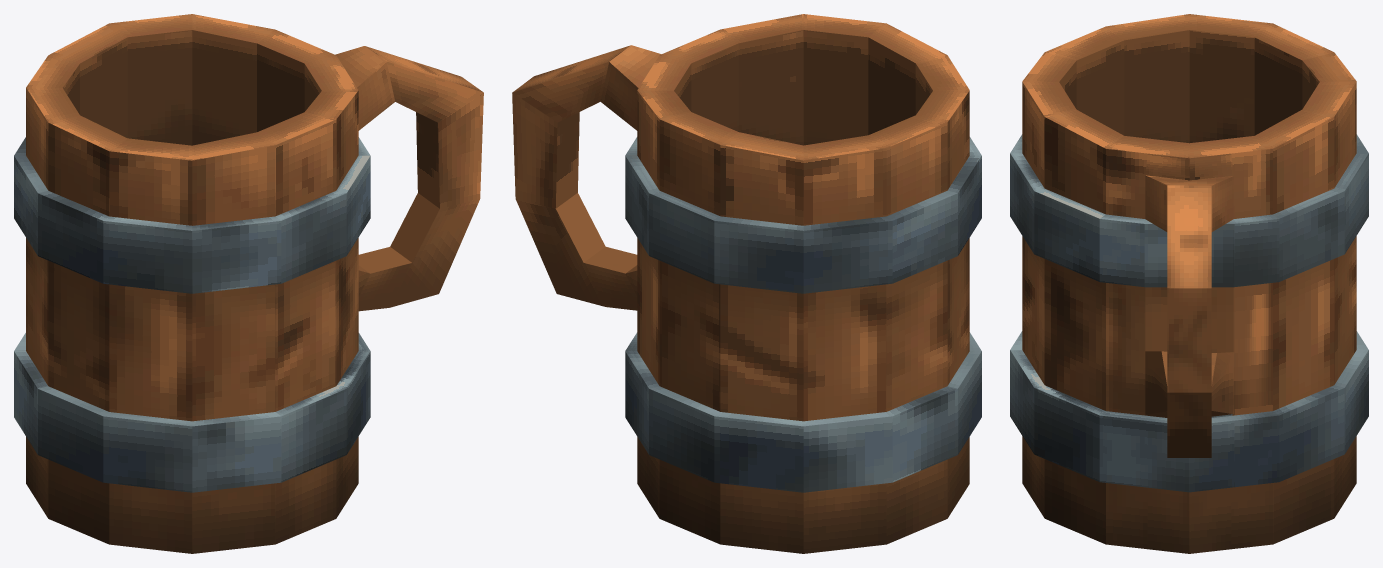
The model's file is tavern_beer_mug.glb.
3 views of the same model, side by side, from view 1: azimuth 30°, elevation 25°; view 2: azimuth 150°, elevation 25°; view 3: azimuth 270°, elevation 25° (orthographic).
Parts seen in each view (by area): view 1: tavern_beer_mug; view 2: tavern_beer_mug; view 3: tavern_beer_mug.
Boxes of the visible parts, bbox=[...] form: tavern_beer_mug: bbox=[14, 14, 483, 553]; tavern_beer_mug: bbox=[512, 14, 981, 553]; tavern_beer_mug: bbox=[1010, 14, 1368, 553].
Size of the model in its own units: 0.3502 by 0.3073 by 0.2486.
Materials: 1 (1 with a texture image).
